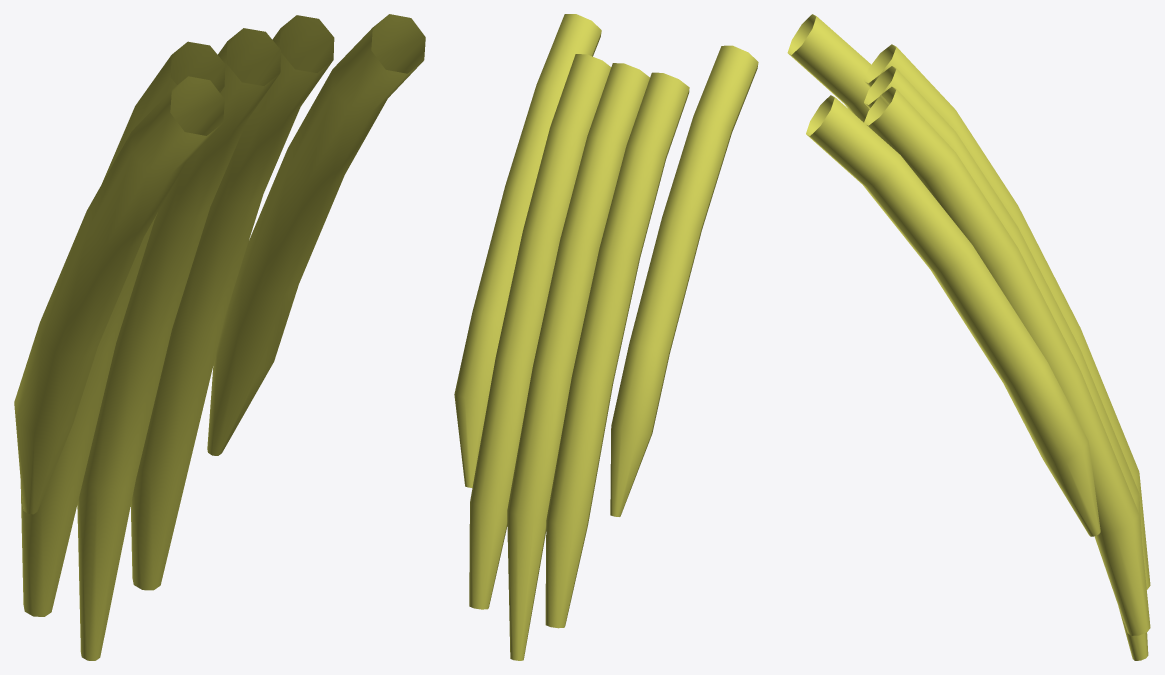
File: Hair.fbx
3 views of the same model, side by side, from view 1: azimuth 30°, elevation 25°; view 2: azimuth 150°, elevation 25°; view 3: azimuth 270°, elevation 25° (orthographic). The views are drawn at different scales.
Visible parts, largest first — view 1: BezierCurve.004; view 2: BezierCurve.004; view 3: BezierCurve.004.
Part boxes in pixels (x1,y1,x2,y2): BezierCurve.004: (14, 14, 425, 660); BezierCurve.004: (454, 14, 758, 660); BezierCurve.004: (787, 14, 1150, 660).
Size of the model in its own units: 12.25 by 33.22 by 18.11.
